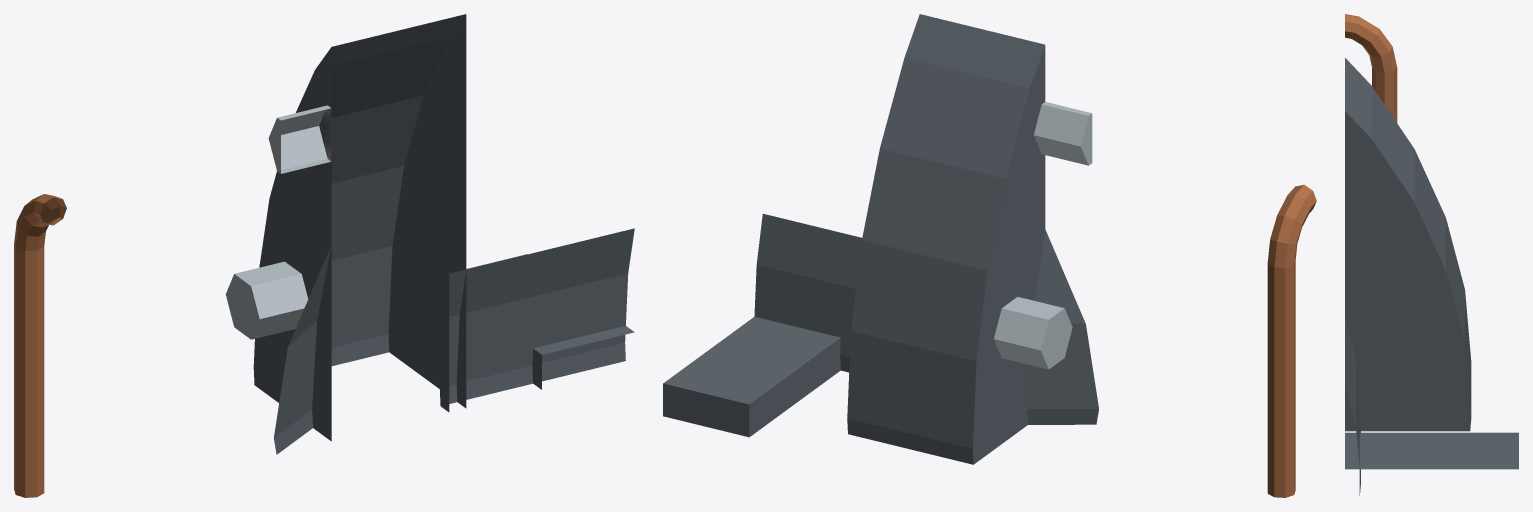
Rendered from cell_21.obj.
3 views of the same model, side by side, from view 1: azimuth 30°, elevation 25°; view 2: azimuth 150°, elevation 25°; view 3: azimuth 270°, elevation 25° (orthographic). The views are drawn at different scales.
Size of the model in its own units: 0.706 by 0.4477 by 0.22.
